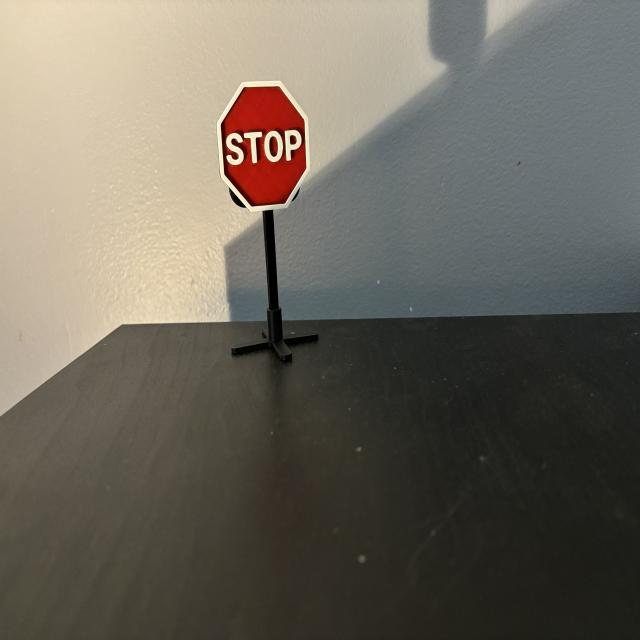sign_stop: (218, 82, 310, 212)
